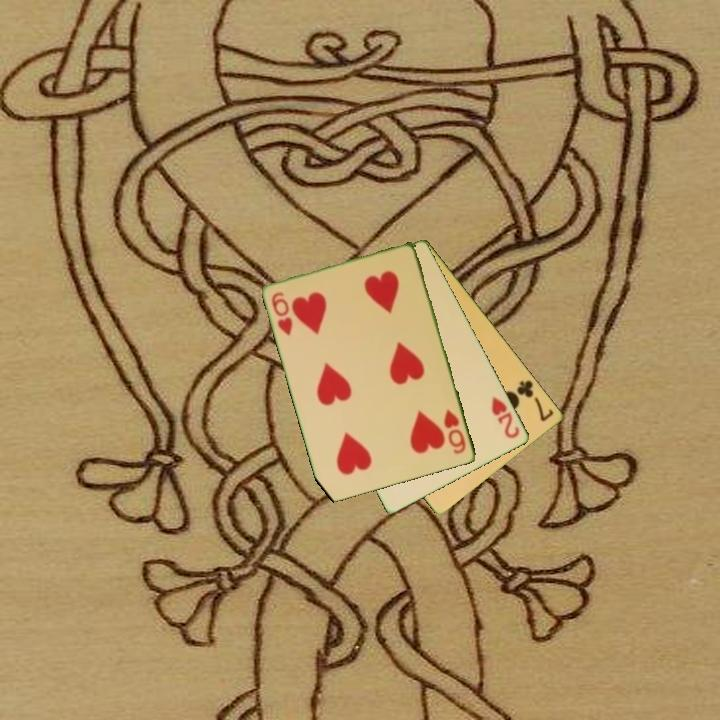2h: (488, 393, 523, 442)
6h: (441, 406, 469, 457), (268, 288, 296, 339)
7c: (513, 377, 557, 425)
